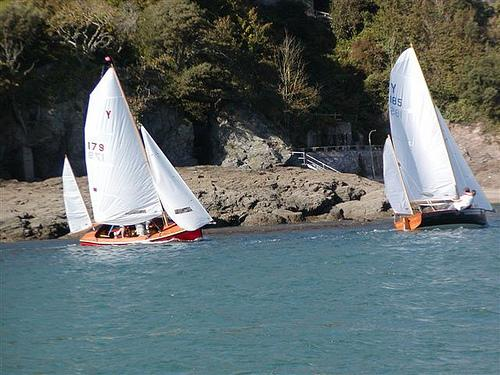Ship: (63, 64, 214, 248), (384, 45, 494, 233)
